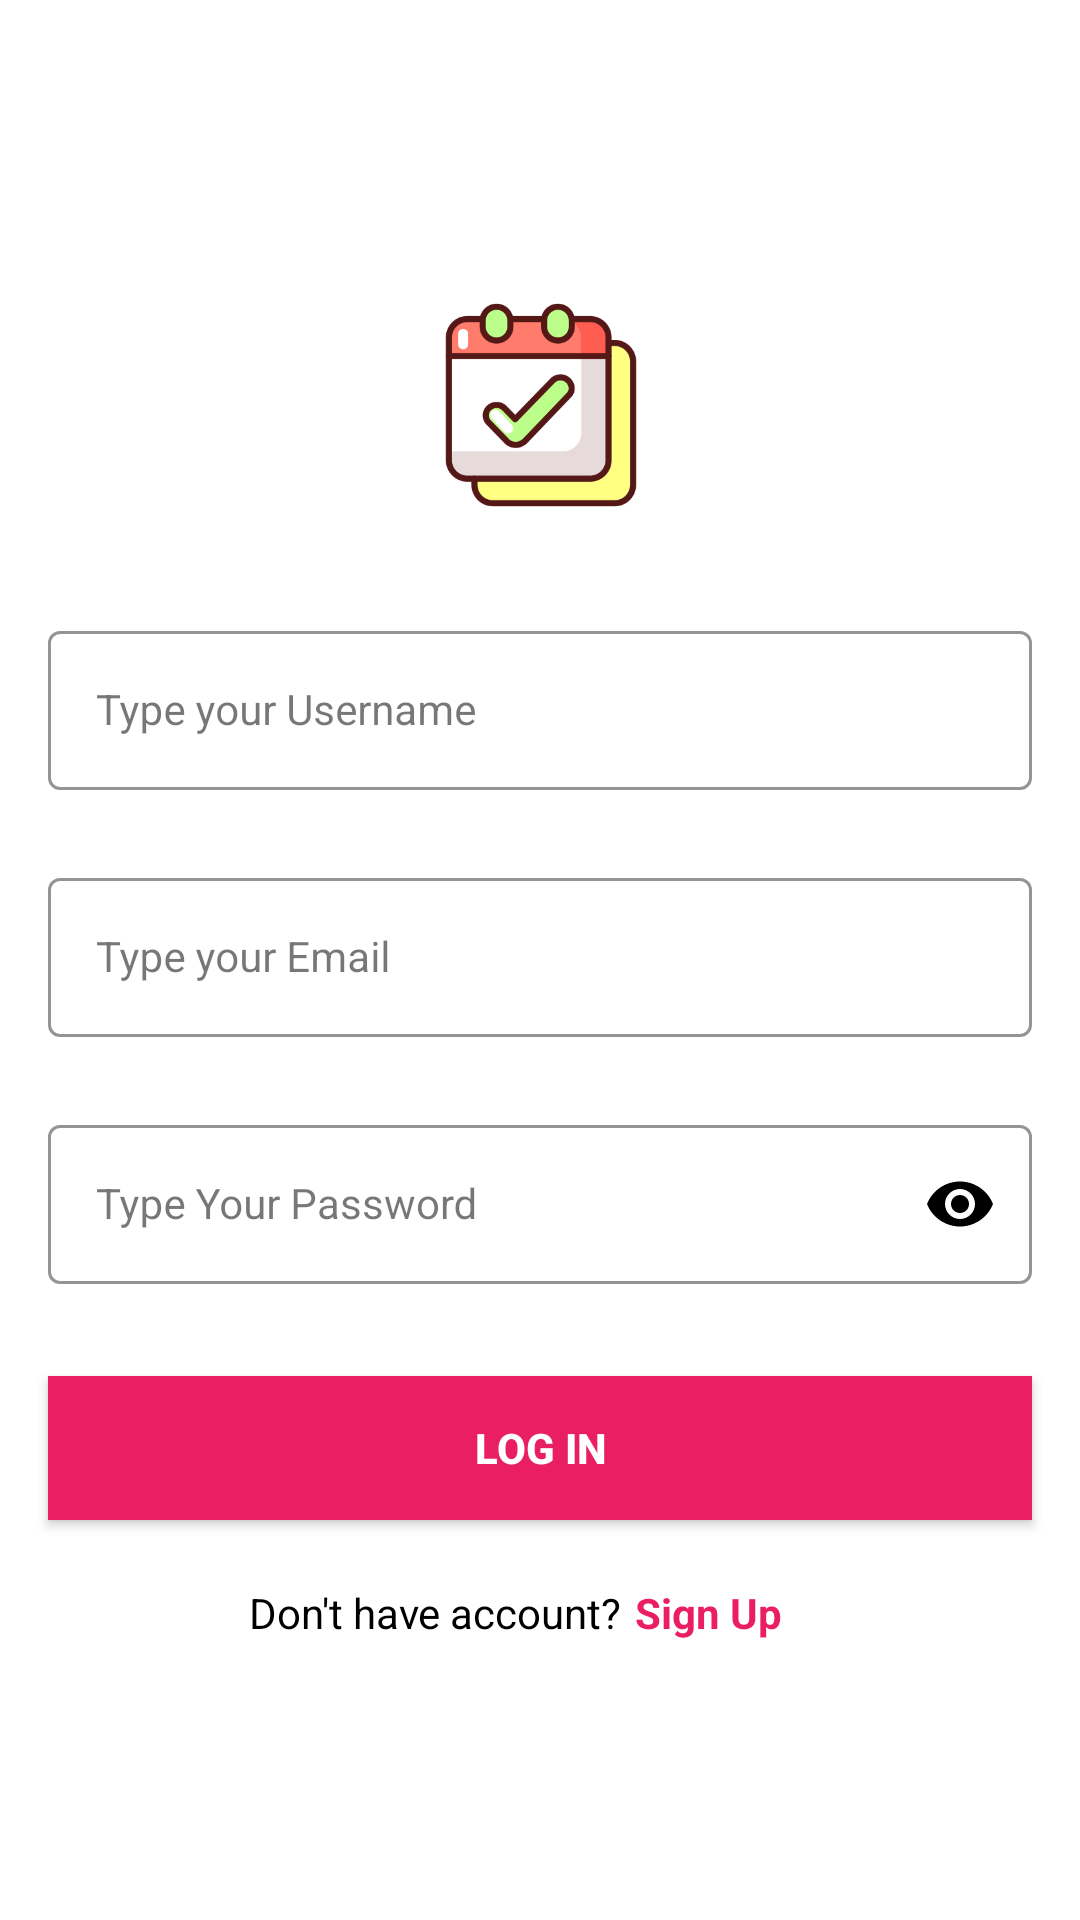

Icon bounding boxes for this 1080 x 1920 phone screenshot, format (x1=x1, y1=y1, x2=x2, y2=y2):
calendar event: (x1=445, y1=303, x2=637, y2=507)
